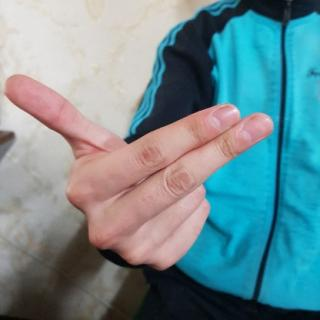GHAYN: (0, 68, 274, 273)
